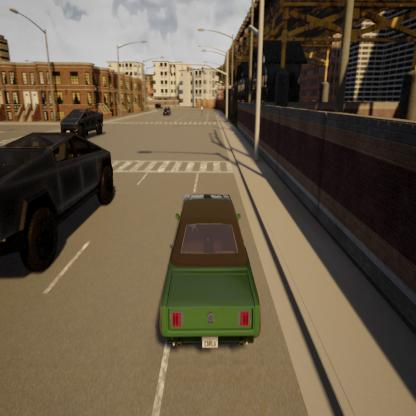Cars: (145, 184, 264, 360), (0, 127, 120, 288), (56, 102, 106, 140), (153, 100, 166, 110), (162, 106, 172, 118)
